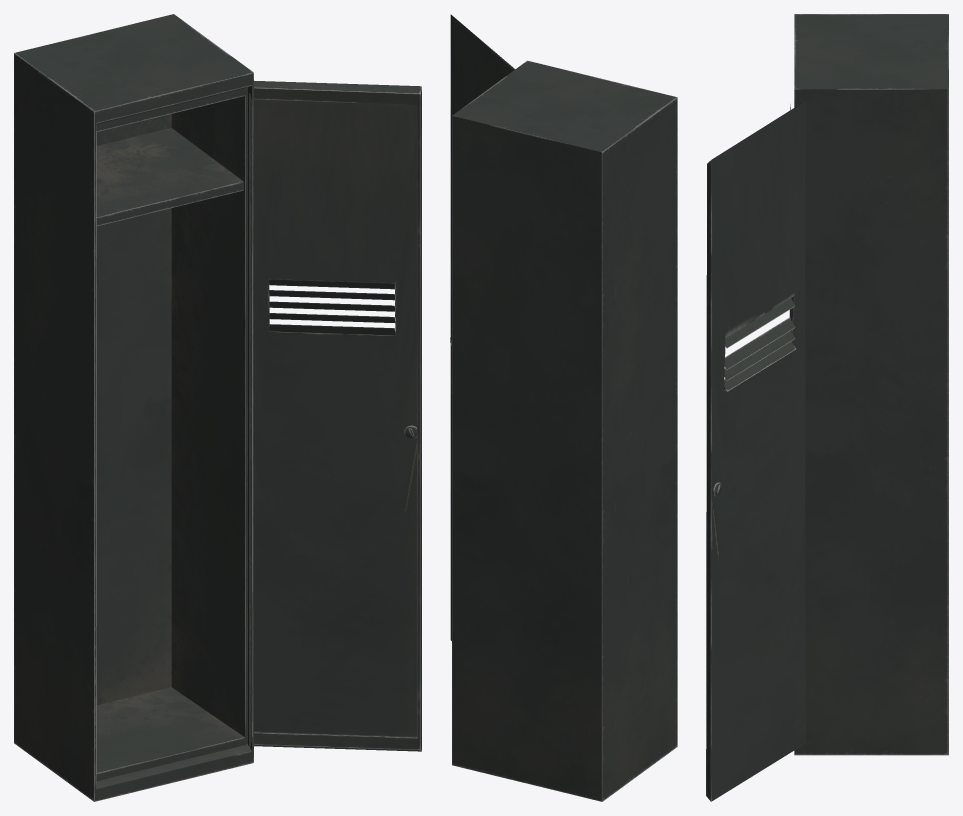
The model's file is lockerWithDoorwindow 1.fbx.
3 views of the same model, side by side, from view 1: azimuth 30°, elevation 25°; view 2: azimuth 150°, elevation 25°; view 3: azimuth 270°, elevation 25° (orthographic). The views are drawn at different scales.
Visible parts, largest first — view 1: M.O.C, M.O.C.001; view 2: M.O.C, M.O.C.001; view 3: M.O.C, M.O.C.001.
Boxes of the visible parts, bbox=[...] form: M.O.C: bbox=[14, 14, 253, 801]; M.O.C.001: bbox=[247, 80, 421, 751]; M.O.C: bbox=[452, 60, 677, 801]; M.O.C.001: bbox=[450, 14, 515, 640]; M.O.C: bbox=[789, 14, 948, 755]; M.O.C.001: bbox=[706, 101, 805, 801].
Bounding box in the file's own units: 69.21 × 160 × 53.
